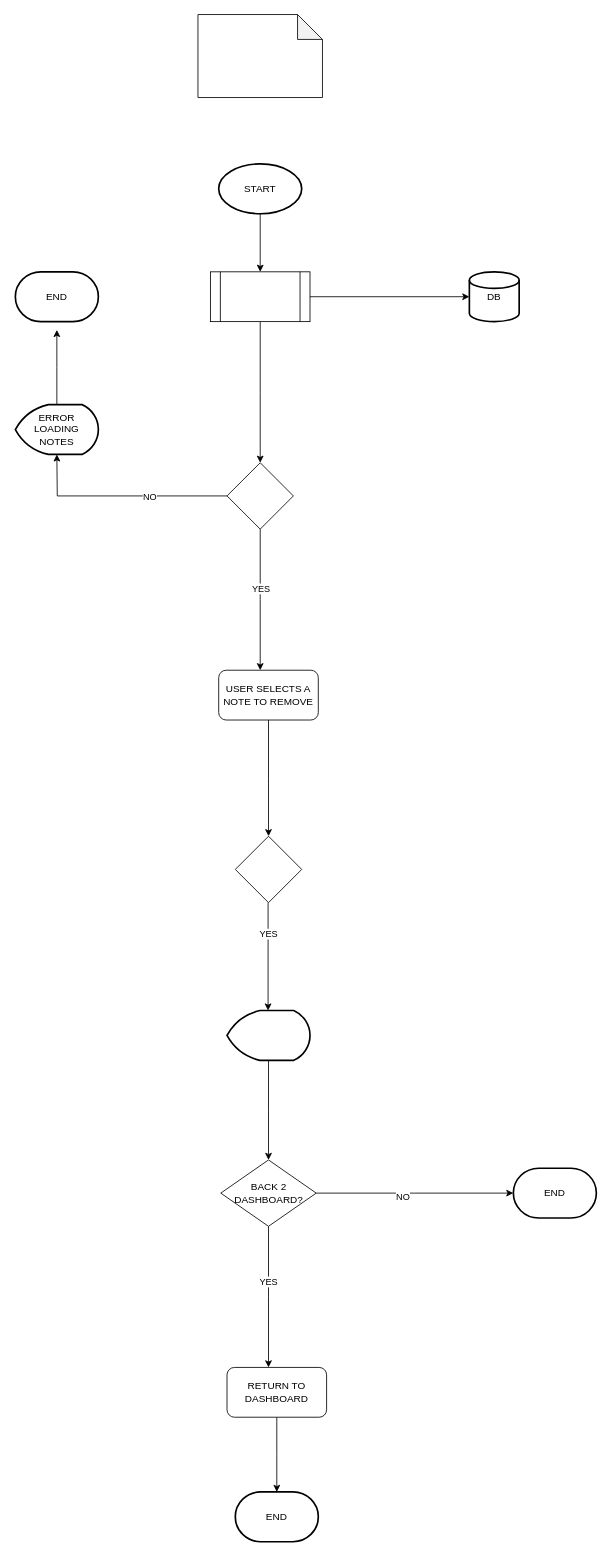
The diagram is 611 pixels wide and 1557 high, and some of its shapes have lost their labels. Here are the shapes that lost their labels. From the top down, the box of each, then its label:
(197, 14, 322, 98): REMOVE NOTE FLOWCHART
(210, 271, 310, 322): SYSTEM LOADS NOTES
(226, 462, 293, 529): NOTES LOADED?
(234, 835, 302, 903): CONFIRM DELETION?
(226, 1009, 310, 1061): CONTENT DELETED!
